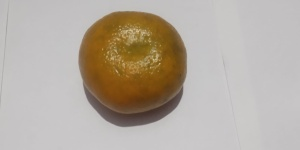BAD: (77, 7, 190, 116)
